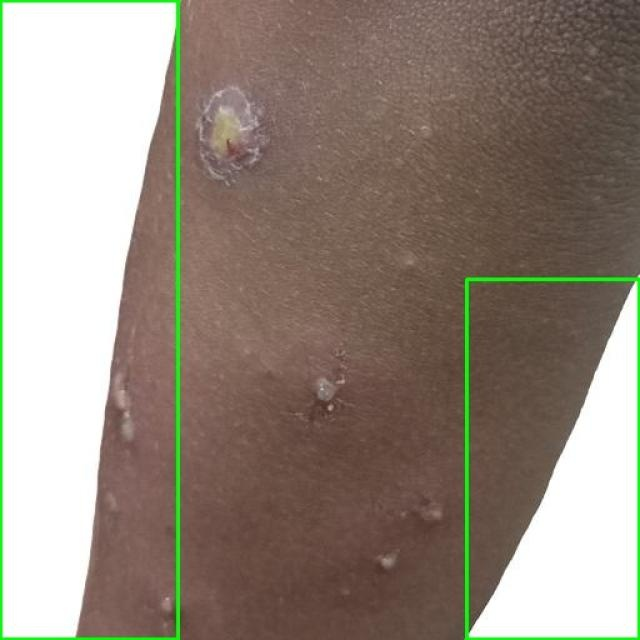Scabies: (0, 0, 178, 639), (466, 279, 639, 639)
